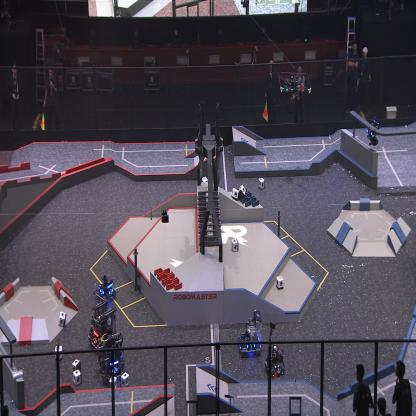car: (98, 327, 125, 382), (88, 302, 118, 350), (236, 310, 263, 358), (94, 273, 118, 304), (265, 344, 286, 376)
